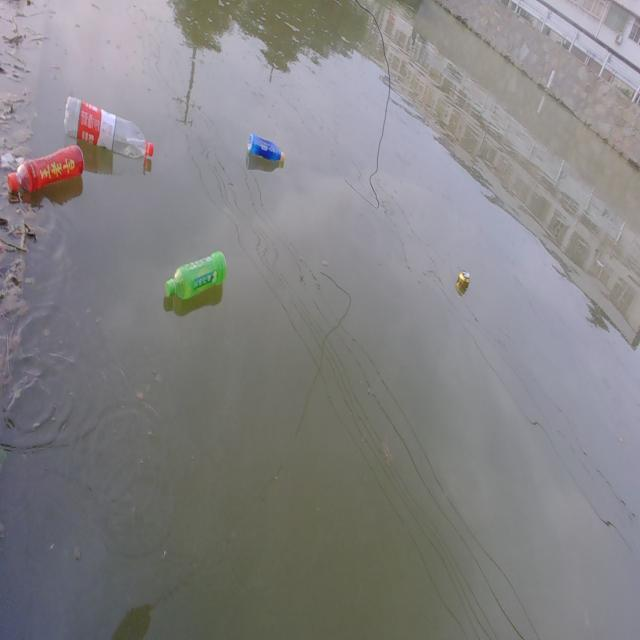bottle: (50, 71, 177, 200), (0, 133, 93, 208), (157, 238, 237, 314), (236, 119, 289, 173)
